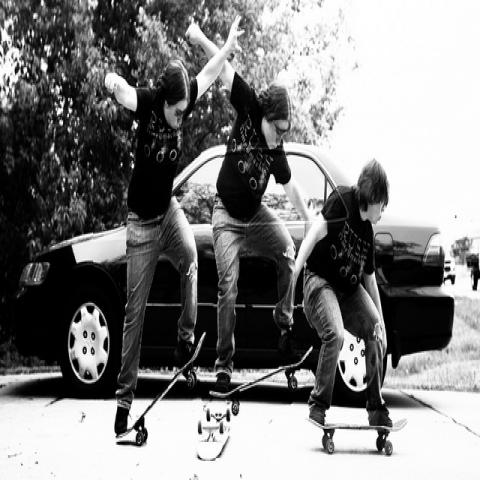car: (13, 143, 455, 404)
